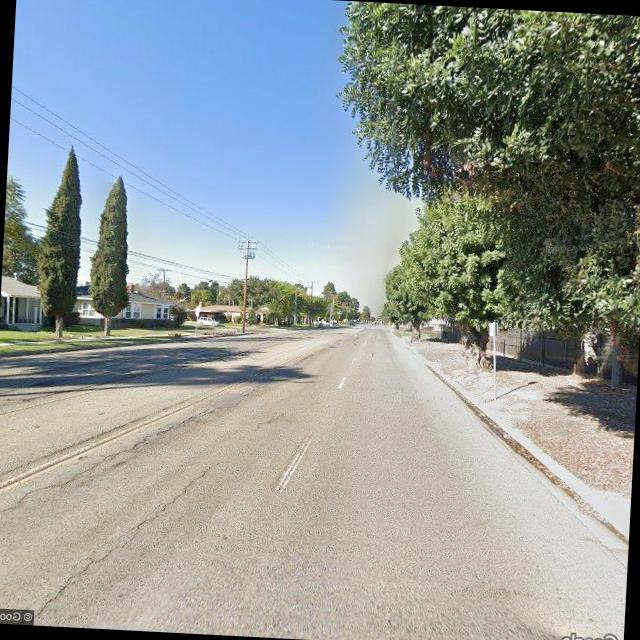pothole: (27, 448, 228, 630), (6, 384, 227, 518)
